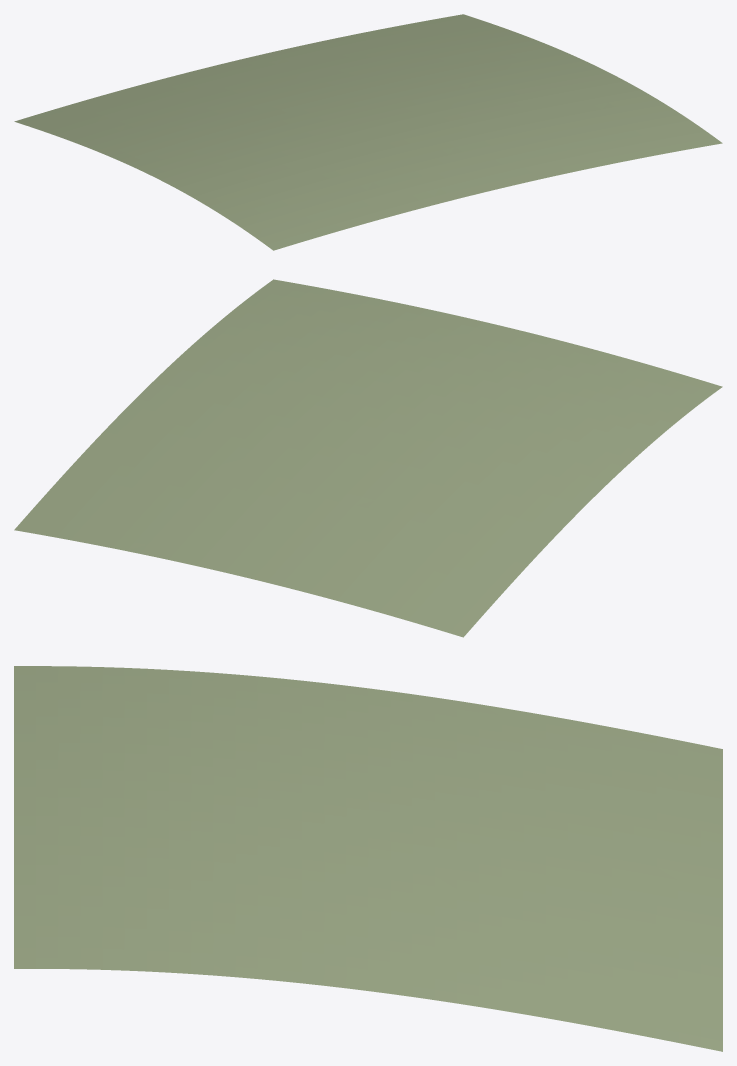
Rendered from valley-15-0.glb.
The picture shows the model from 3 angles, top to bottom: view 1: azimuth 30°, elevation 25°; view 2: azimuth 150°, elevation 25°; view 3: azimuth 270°, elevation 25°; orthographic projection. The views are drawn at different scales.
Parts seen in each view (by area): view 1: valley-15-0; view 2: valley-15-0; view 3: valley-15-0.
Part boxes in pixels (left/top/right/bottom): valley-15-0: left=14, top=14, right=722, bottom=250; valley-15-0: left=14, top=279, right=722, bottom=637; valley-15-0: left=14, top=666, right=722, bottom=1051.
Bounding box in the file's own units: 256 × 38.11 × 256.
